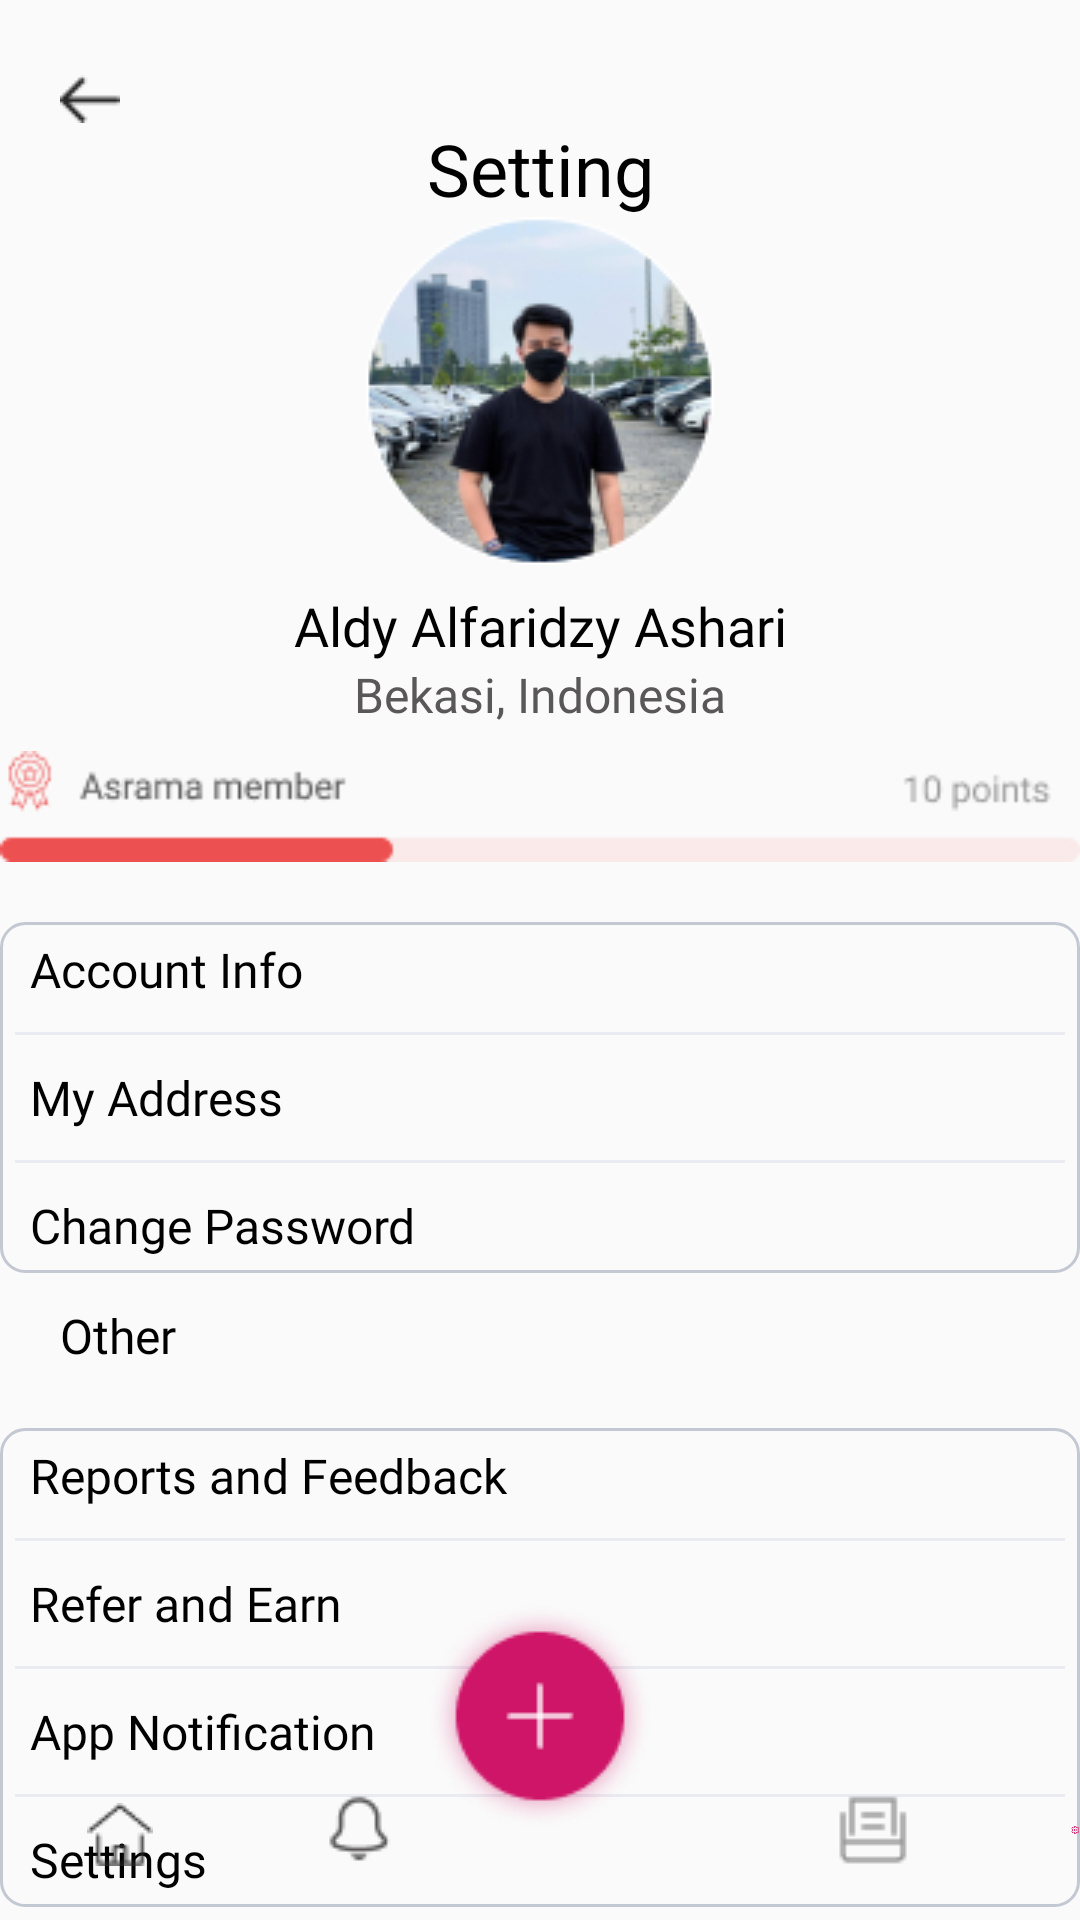

Named icons in this screenshot (1080×1920) and their bounding boxes, [left=x1, top=y1, right=x2, bottom=y2]:
back: [left=60, top=77, right=120, bottom=123]
fotoprofile: [left=368, top=221, right=712, bottom=563]
notificon: [left=329, top=1796, right=388, bottom=1861]
plus: [left=446, top=1622, right=634, bottom=1810]
